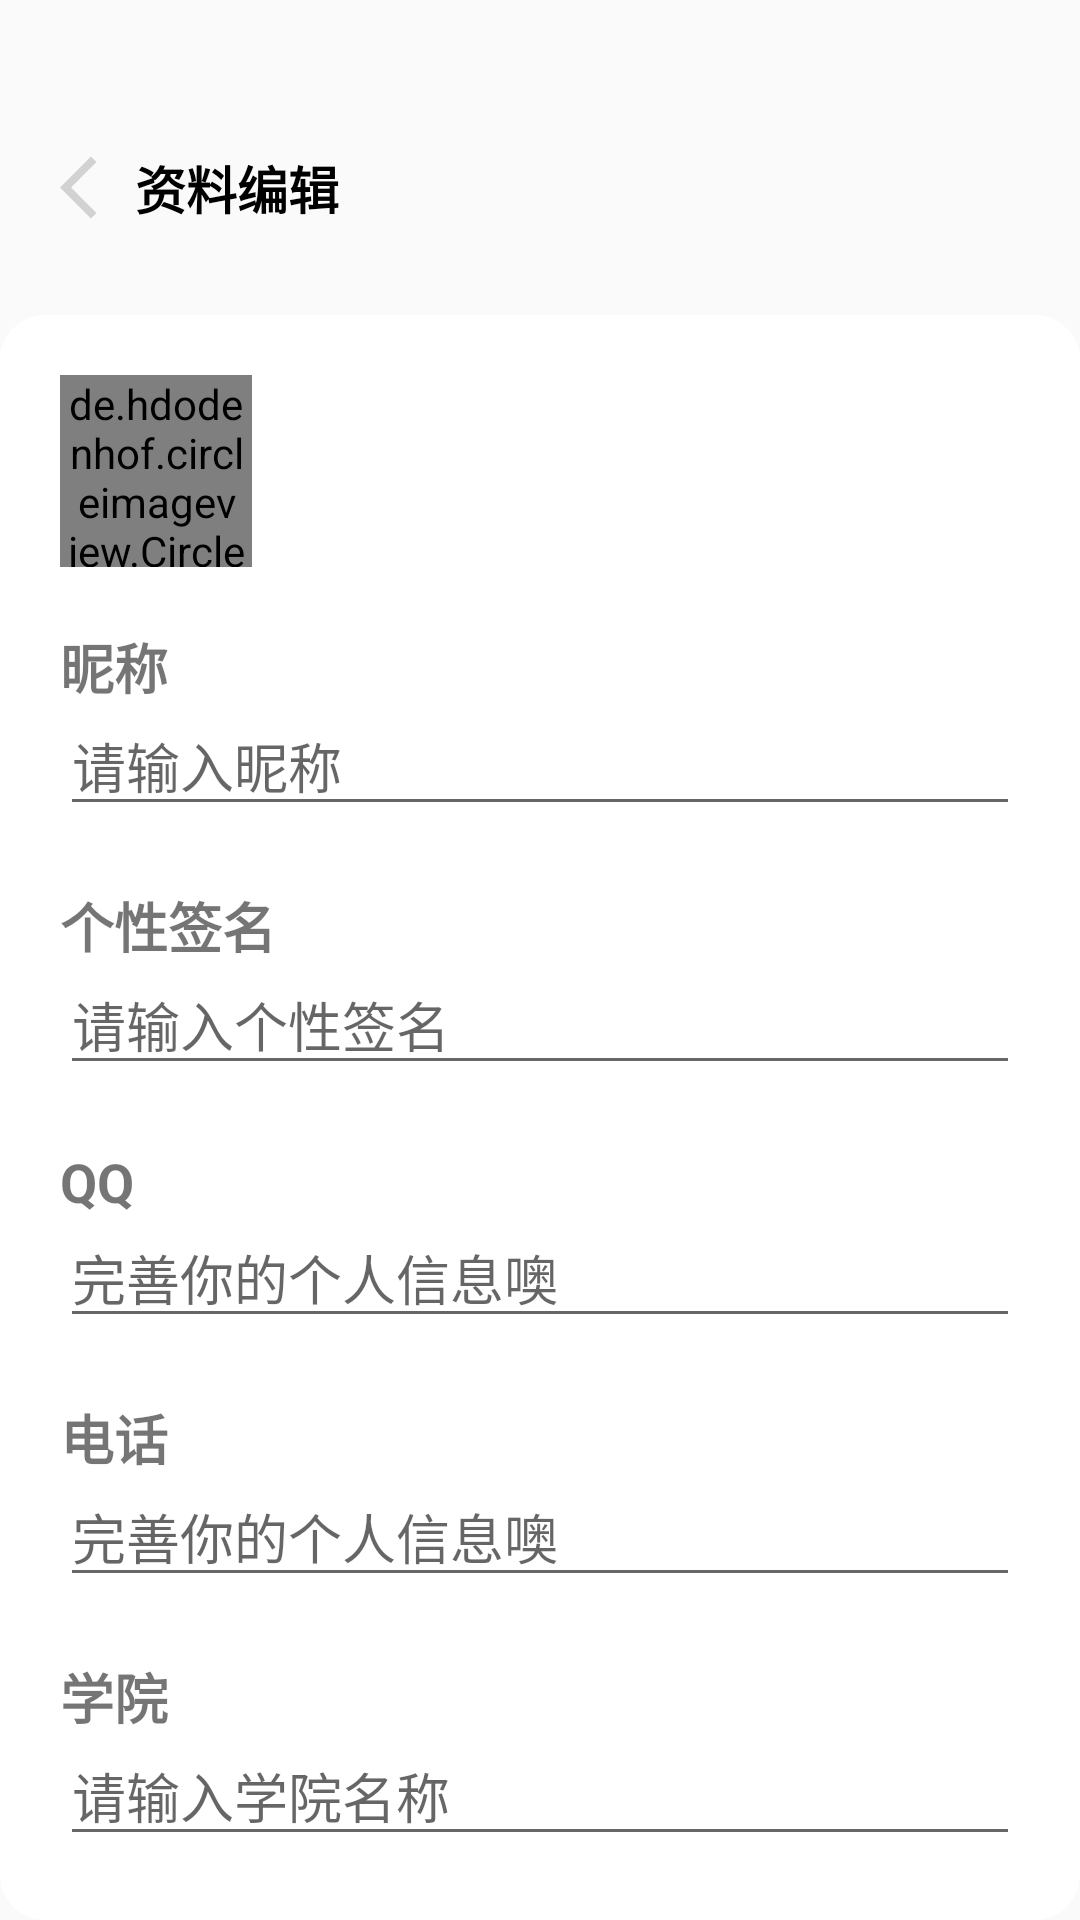

Icons on this 1080px x 1920px Android screen, each with its box as (x1, y1, x2, y2):
login back arrow: (60, 157, 96, 218)
